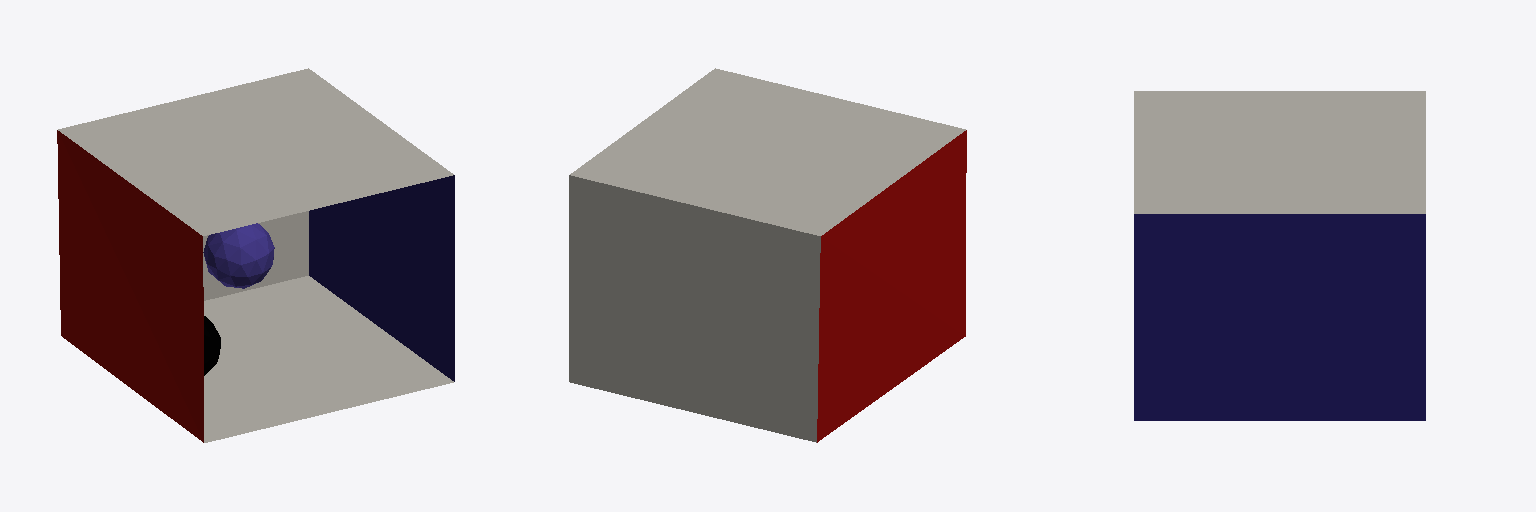
File: CornellBox-Sphere-358.obj
3 views of the same model, side by side, from view 1: azimuth 30°, elevation 25°; view 2: azimuth 150°, elevation 25°; view 3: azimuth 270°, elevation 25° (orthographic).
Parts seen in each view (by area): view 1: ceiling, leftWall, floor, rightWall, leftSphere, backWall, rightSphere; view 2: backWall, ceiling, leftWall; view 3: rightWall, ceiling.
Boxes of the visible parts, box(x1,y1,x2,y2) form: ceiling: box(58, 68, 453, 235); leftWall: box(57, 130, 203, 442); floor: box(204, 276, 453, 442); rightWall: box(309, 175, 454, 381); leftSphere: box(203, 223, 274, 288); backWall: box(203, 211, 308, 300); rightSphere: box(204, 316, 220, 375); backWall: box(569, 175, 820, 442); ceiling: box(570, 68, 965, 235); leftWall: box(817, 130, 966, 442); rightWall: box(1134, 214, 1425, 420); ceiling: box(1134, 91, 1425, 213).
Bounding box in the file's own units: 2.02 × 1.59 × 2.03.